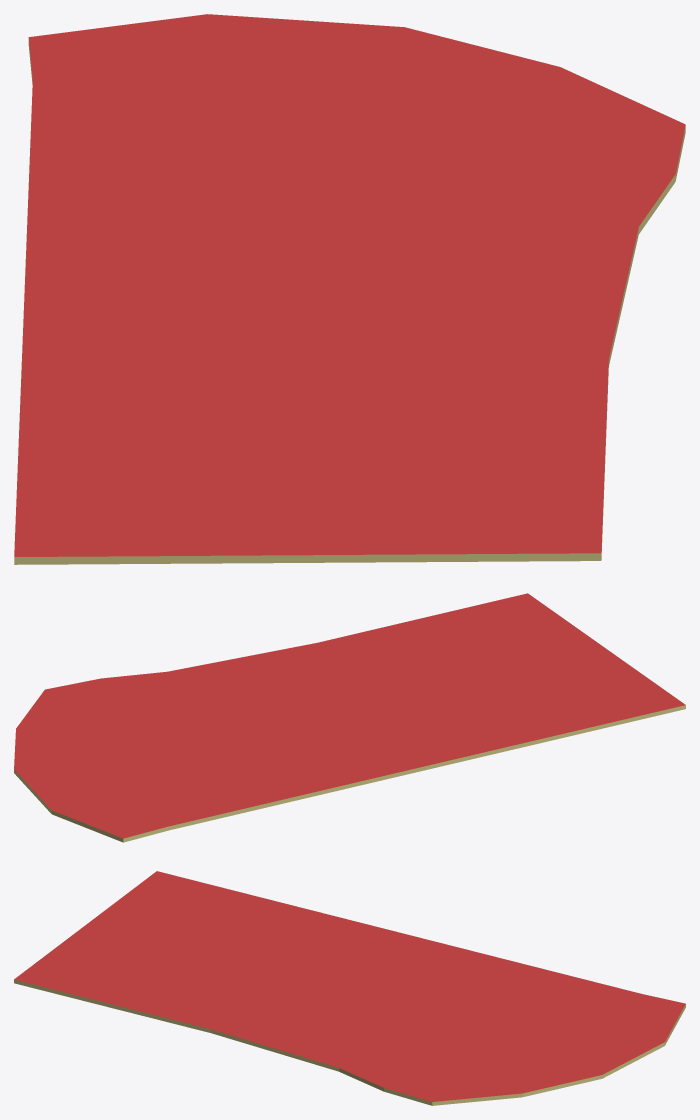
3 views of the same model, one above another, from view 1: azimuth 30°, elevation 25°; view 2: azimuth 150°, elevation 25°; view 3: azimuth 270°, elevation 25° (orthographic). The views are drawn at different scales.
Visible parts, largest first — view 1: group_3, group_4; view 2: group_3, group_4; view 3: group_3, group_4.
Part boxes in pixels (bbox=[...]): group_3: bbox=[14, 14, 685, 556]; group_4: bbox=[14, 39, 685, 564]; group_3: bbox=[14, 593, 685, 838]; group_4: bbox=[14, 705, 685, 842]; group_3: bbox=[14, 871, 685, 1101]; group_4: bbox=[14, 979, 685, 1105].
Bounding box in the file's own units: 12.8 × 15.73 × 0.1.
